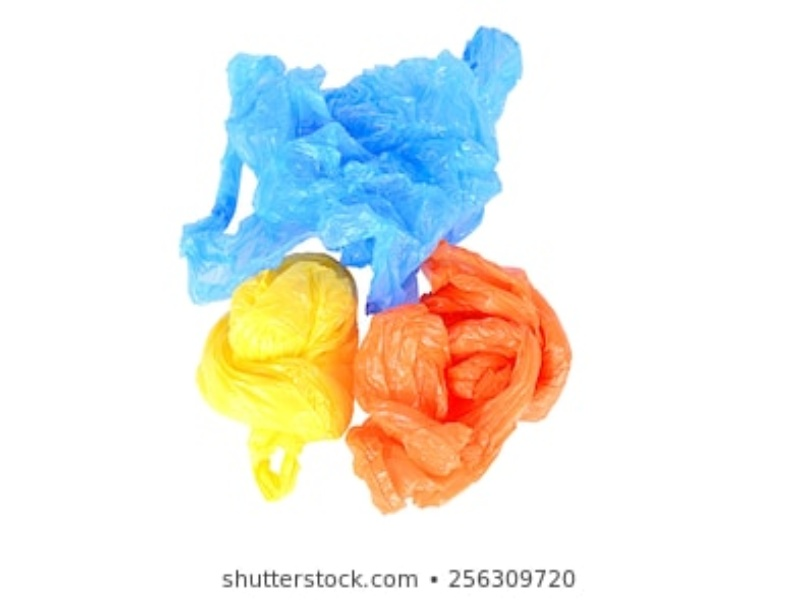plastic-bag: (174, 21, 520, 310), (348, 240, 573, 511), (195, 256, 361, 488)
